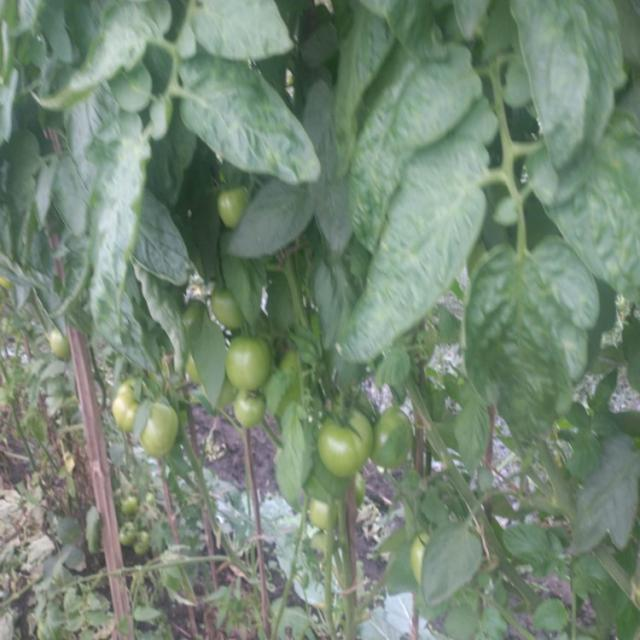tomato: (322, 398, 368, 479), (374, 401, 411, 474), (228, 335, 271, 389), (218, 188, 258, 226), (212, 290, 244, 335), (111, 378, 144, 420), (150, 411, 178, 459), (121, 521, 153, 555), (235, 391, 264, 426), (416, 533, 431, 578), (184, 294, 208, 322), (50, 329, 71, 361), (187, 352, 205, 386), (316, 502, 332, 531), (125, 494, 139, 516)
